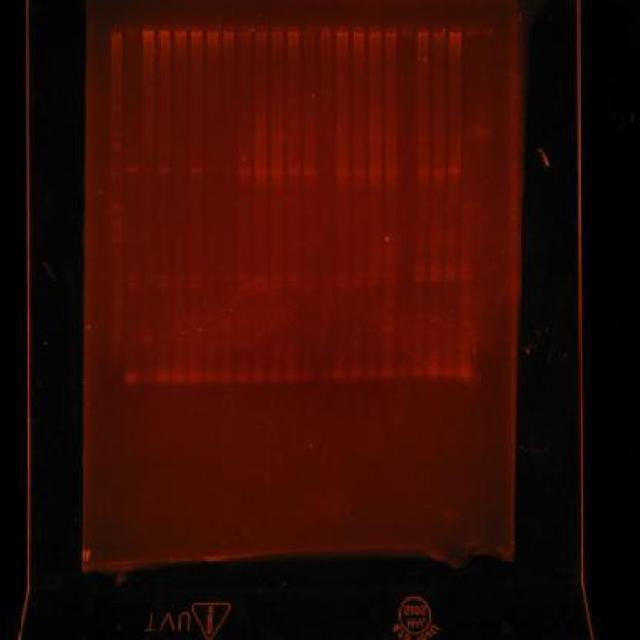B: (457, 362, 474, 380), (124, 369, 140, 386), (171, 368, 186, 386), (441, 363, 456, 380), (140, 367, 154, 385), (156, 368, 170, 386), (188, 368, 202, 386), (202, 370, 220, 384), (348, 368, 364, 383), (283, 370, 300, 384), (426, 364, 440, 380), (410, 364, 426, 378), (380, 366, 396, 380), (364, 367, 380, 381), (332, 368, 348, 382), (234, 372, 250, 386), (266, 370, 282, 384), (220, 371, 234, 386), (300, 371, 316, 384), (396, 366, 410, 380), (252, 372, 266, 386), (317, 368, 332, 381), (285, 272, 301, 283), (269, 166, 285, 177), (254, 167, 268, 178), (384, 168, 399, 178), (334, 168, 349, 178), (301, 168, 317, 177), (458, 272, 472, 282), (412, 274, 426, 284), (269, 282, 283, 292), (417, 168, 431, 178), (238, 283, 252, 292), (367, 270, 381, 279), (287, 283, 301, 292), (432, 168, 446, 177), (352, 168, 366, 177), (220, 167, 234, 176), (126, 273, 140, 281), (126, 304, 140, 312), (189, 274, 203, 282), (189, 282, 203, 290), (237, 275, 251, 283), (428, 274, 442, 282), (444, 265, 458, 273), (444, 273, 458, 281), (412, 267, 426, 275), (382, 278, 396, 286), (382, 270, 396, 278), (336, 273, 350, 281), (268, 274, 282, 282), (253, 284, 267, 292), (447, 167, 461, 175), (368, 170, 382, 178), (286, 168, 300, 176), (158, 280, 171, 288), (158, 274, 171, 282), (352, 279, 365, 287), (351, 272, 364, 280), (428, 264, 441, 272), (459, 264, 472, 272), (174, 274, 186, 282), (368, 279, 380, 287), (126, 282, 140, 288), (336, 282, 350, 288), (126, 167, 139, 173), (238, 168, 251, 174), (158, 167, 170, 173), (190, 168, 202, 174), (418, 136, 430, 142), (302, 284, 313, 290)
L: (108, 18, 500, 40)
M: (108, 43, 124, 386)
P: (110, 302, 124, 310), (110, 132, 122, 140), (110, 220, 122, 226), (110, 171, 122, 177), (110, 207, 122, 213), (110, 236, 122, 242), (110, 202, 122, 207), (110, 165, 122, 170), (110, 142, 122, 146), (110, 114, 122, 118), (110, 122, 122, 125), (110, 108, 122, 110)
Pc: (140, 21, 156, 37), (334, 22, 350, 38), (301, 22, 317, 36), (285, 23, 301, 37), (270, 22, 286, 36), (367, 24, 382, 38), (318, 22, 333, 36), (432, 25, 448, 38), (174, 23, 188, 37), (206, 22, 220, 36), (222, 22, 236, 36), (384, 24, 398, 38), (400, 24, 414, 38), (416, 23, 430, 37), (352, 23, 366, 37), (254, 23, 268, 37), (238, 22, 252, 36), (158, 22, 172, 35), (464, 25, 478, 38), (109, 24, 123, 36), (190, 23, 202, 37), (126, 23, 140, 34), (481, 26, 496, 36), (448, 26, 463, 36)
